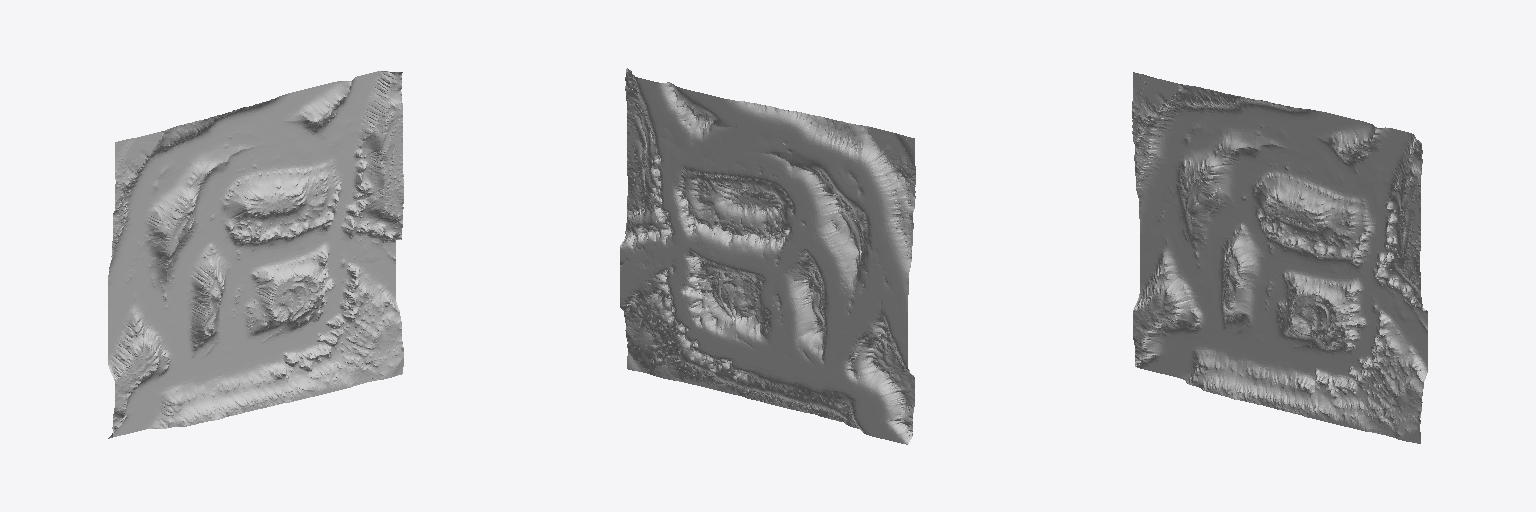
File: bottom1.obj
3 renders of one model, left to right at view 1: azimuth 30°, elevation 25°; view 2: azimuth 150°, elevation 25°; view 3: azimuth 330°, elevation 25°, orthographic.
Parts seen in each view (by area): view 1: Plane.003; view 2: Plane.003; view 3: Plane.003.
Part boxes in pixels (left/top/right/bottom): Plane.003: left=108, top=71, right=403, bottom=438; Plane.003: left=620, top=68, right=915, bottom=444; Plane.003: left=1132, top=72, right=1427, bottom=443.
Bounding box in the file's own units: 2000 × 2000 × 103.